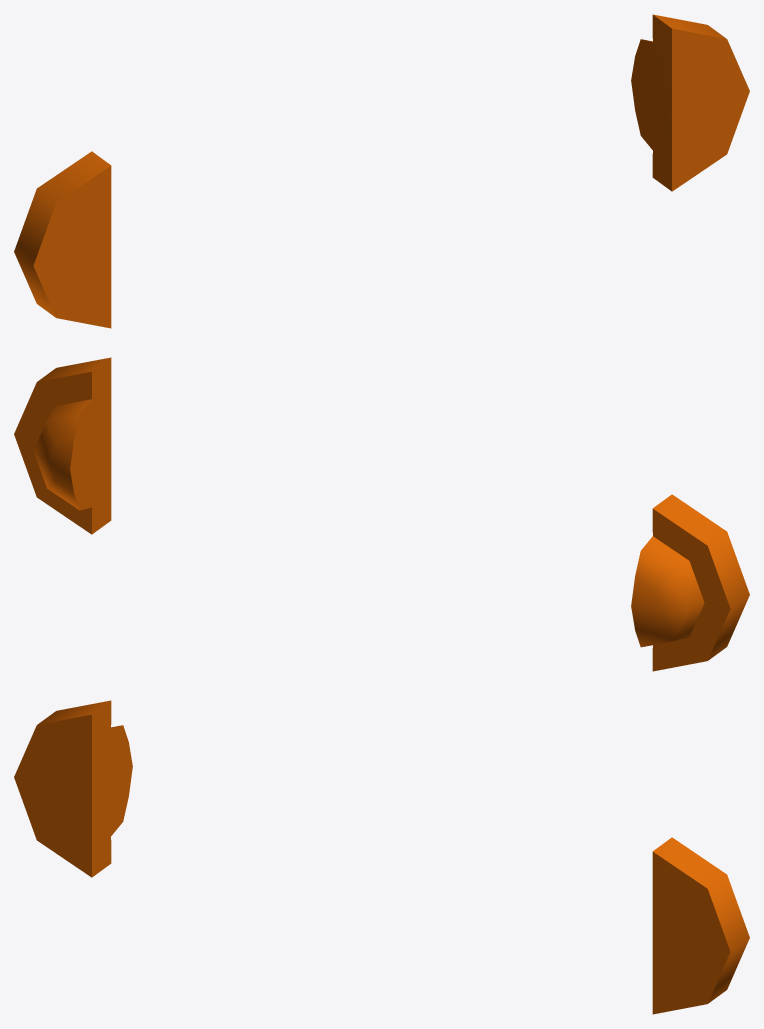
The model's file is Ears_D_Brown.fbx.
The picture shows the model from 3 angles, top to bottom: view 1: azimuth 30°, elevation 25°; view 2: azimuth 150°, elevation 25°; view 3: azimuth 330°, elevation 25°; orthographic projection.
Parts seen in each view (by area): view 1: Ears_D_Brown; view 2: Ears_D_Brown; view 3: Ears_D_Brown.
Boxes of the visible parts, x1=… form: Ears_D_Brown: x1=14, y1=14, x2=749, y2=328; Ears_D_Brown: x1=14, y1=357, x2=749, y2=671; Ears_D_Brown: x1=14, y1=700, x2=749, y2=1014.
Size of the model in its own units: 126 by 27.31 by 12.48.
